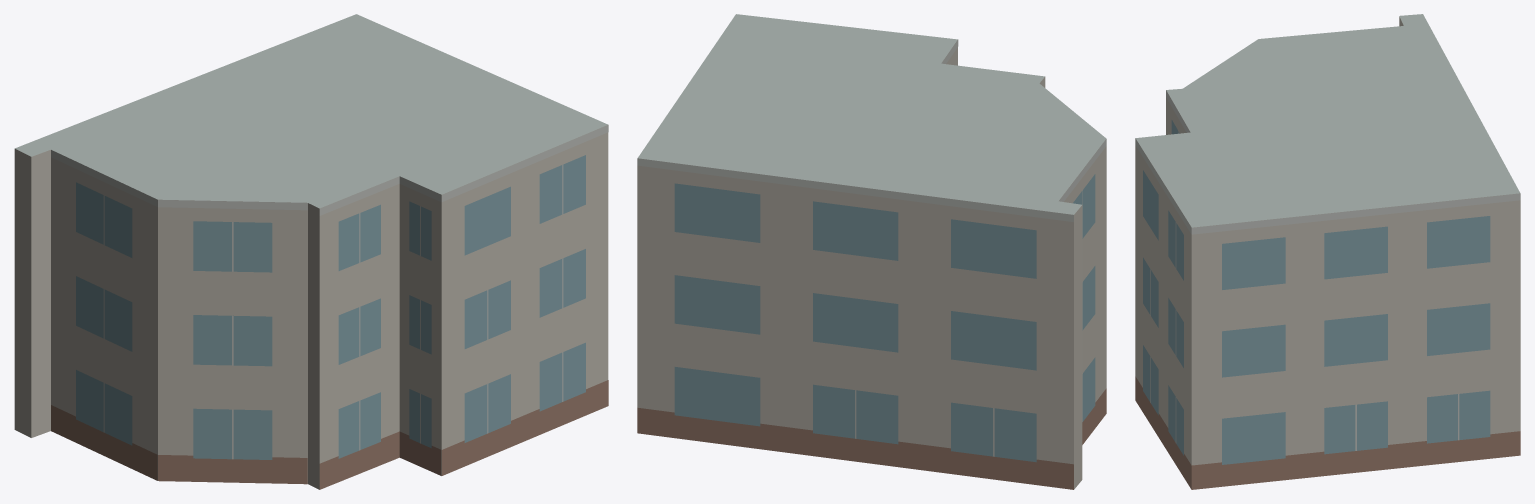
The model's file is survey-upis-32696221.glb.
3 views of the same model, side by side, from view 1: azimuth 30°, elevation 25°; view 2: azimuth 150°, elevation 25°; view 3: azimuth 270°, elevation 25° (orthographic). The views are drawn at different scales.
Parts seen in each view (by area): view 1: survey-upis-32696221.tmp; view 2: survey-upis-32696221.tmp; view 3: survey-upis-32696221.tmp.
Boxes of the visible parts, <box> form: survey-upis-32696221.tmp: <box>14,14,608,489</box>; survey-upis-32696221.tmp: <box>637,14,1106,489</box>; survey-upis-32696221.tmp: <box>1135,14,1520,489</box>.
Bounding box in the file's own units: 16 × 9.15 × 12.19.
